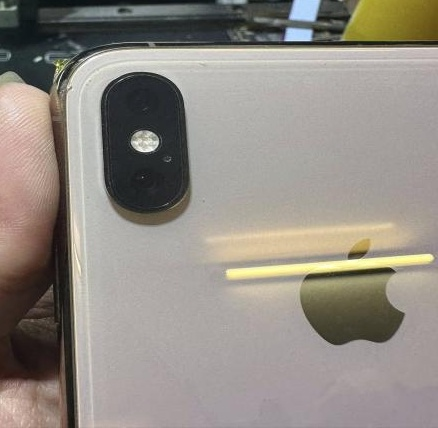scratch: (53, 75, 74, 117), (199, 59, 209, 68), (86, 79, 94, 87), (200, 199, 206, 204)
